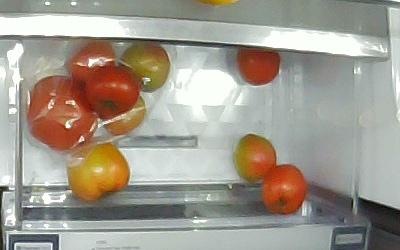tomato: (66, 142, 131, 203), (83, 65, 139, 119), (260, 165, 308, 217), (231, 132, 278, 185), (236, 49, 283, 87)
tomato_vinyl: (25, 76, 97, 148), (118, 43, 171, 93), (66, 40, 118, 78), (101, 94, 146, 136)
